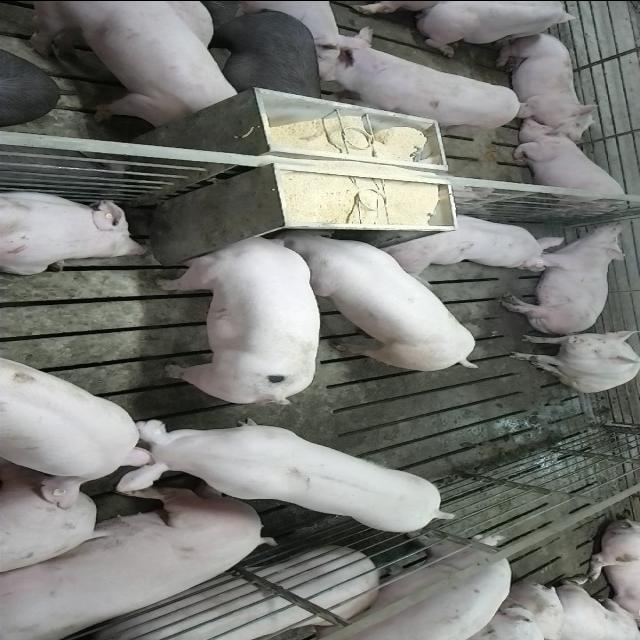Feeding: (272, 228, 480, 376), (156, 232, 322, 408)
Lateral_lying: (0, 484, 273, 636), (498, 221, 628, 333)
Sitting: (507, 329, 639, 392)
Standing: (104, 418, 452, 536), (76, 548, 378, 640), (24, 1, 246, 126), (292, 534, 518, 640), (316, 28, 534, 128), (0, 354, 148, 486), (198, 3, 324, 98)
Sternal_lying: (0, 188, 151, 275), (381, 208, 567, 272), (492, 30, 602, 134), (414, 3, 584, 56)
